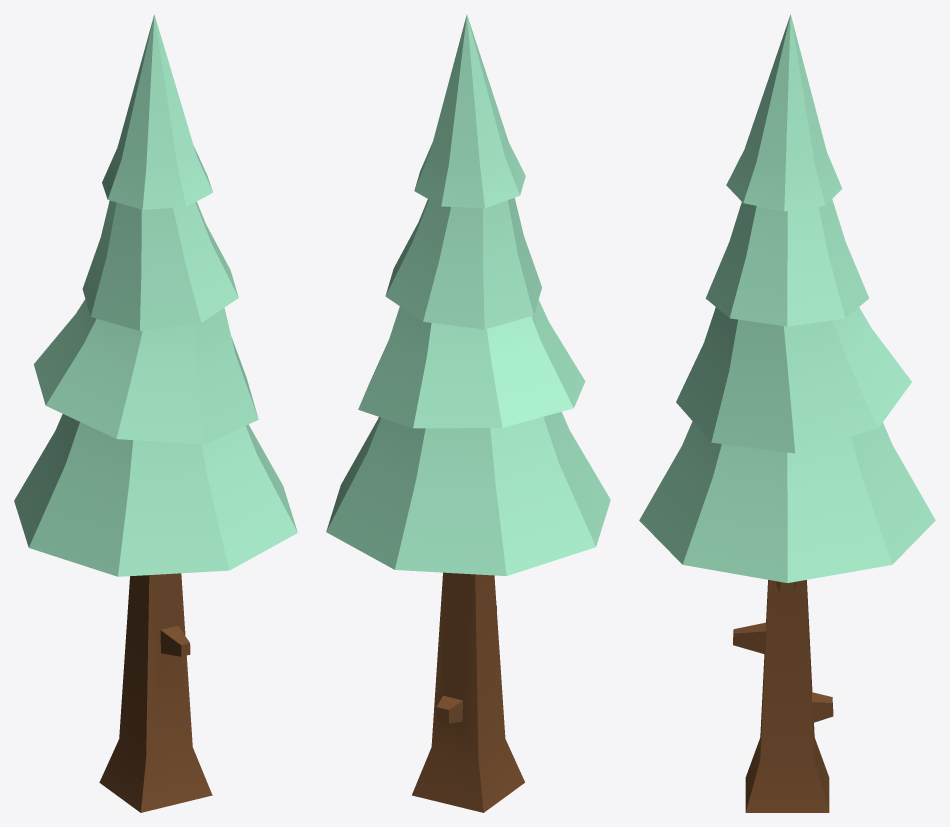
The model's file is Tree_High.obj.
The picture shows the model from 3 angles, left to right: view 1: azimuth 30°, elevation 25°; view 2: azimuth 150°, elevation 25°; view 3: azimuth 270°, elevation 25°; orthographic projection.
Visible parts, largest first — view 1: Tree3:treeHighCrooked; view 2: Tree3:treeHighCrooked; view 3: Tree3:treeHighCrooked.
Part boxes in pixels (left/top/right/bottom): Tree3:treeHighCrooked: left=14, top=14, right=297, bottom=812; Tree3:treeHighCrooked: left=326, top=14, right=610, bottom=812; Tree3:treeHighCrooked: left=639, top=14, right=935, bottom=812.
Bounding box in the file's own units: 1.02 × 2.97 × 1.02.
